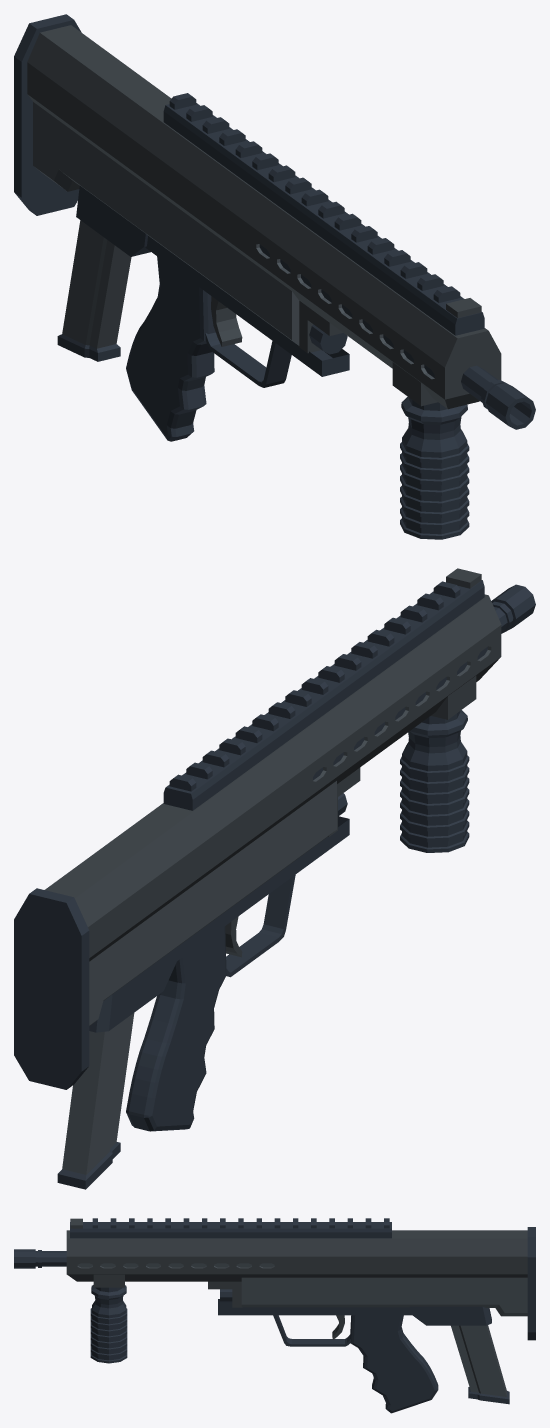
File: bullpup_2.glb
3 views of the same model, one above another, from view 1: azimuth 30°, elevation 25°; view 2: azimuth 150°, elevation 25°; view 3: azimuth 270°, elevation 25° (orthographic). The views are drawn at different scales.
Parts seen in each view (by area): view 1: bullpup_2; view 2: bullpup_2; view 3: bullpup_2.
Part boxes in pixels (left/top/right/bottom): bullpup_2: left=14, top=14, right=535, bottom=539; bullpup_2: left=14, top=568, right=535, bottom=1189; bullpup_2: left=14, top=1218, right=535, bottom=1413.
Bounding box in the file's own units: 0.0449 × 0.2198 × 0.544.
